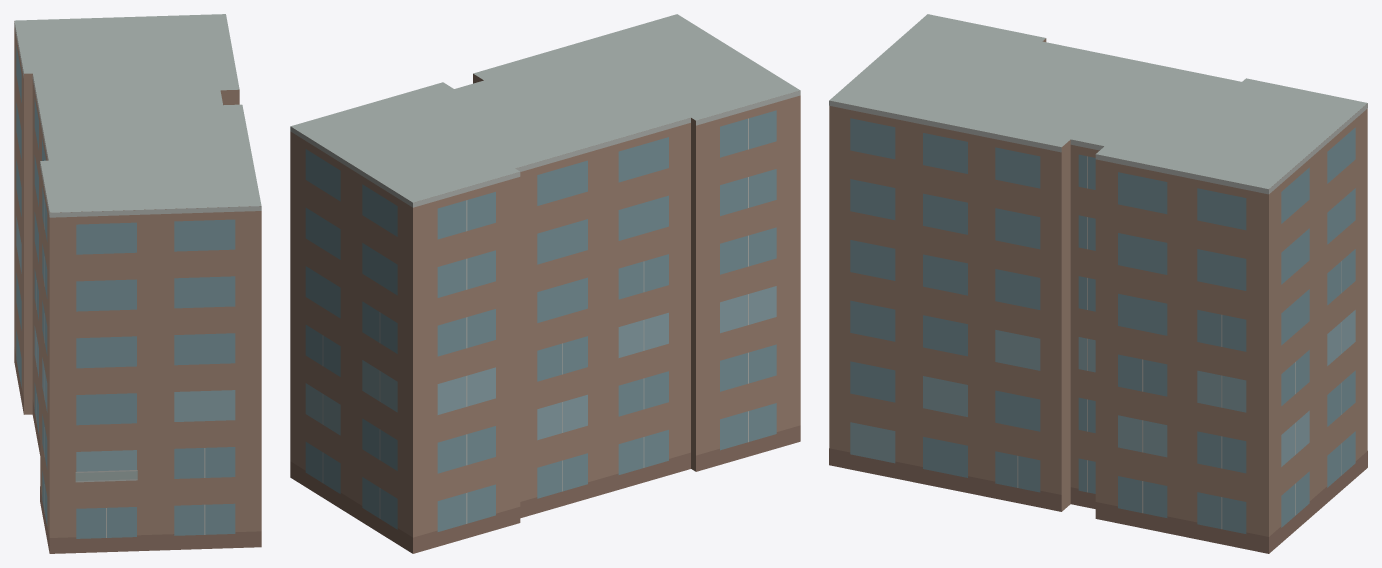
The model's file is survey-upis-32987517.glb.
3 views of the same model, side by side, from view 1: azimuth 30°, elevation 25°; view 2: azimuth 150°, elevation 25°; view 3: azimuth 270°, elevation 25° (orthographic). The views are drawn at different scales.
Parts seen in each view (by area): view 1: survey-upis-32987517.tmp; view 2: survey-upis-32987517.tmp; view 3: survey-upis-32987517.tmp.
Part boxes in pixels (x1,y1,x2,y2): survey-upis-32987517.tmp: (14,14,261,553); survey-upis-32987517.tmp: (290,14,800,553); survey-upis-32987517.tmp: (829,14,1367,553).
Size of the model in its own units: 17.53 by 17 by 22.77.
